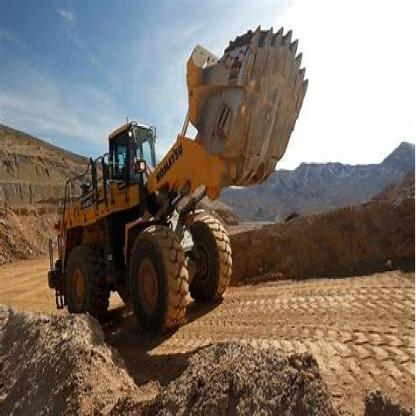bull_dozer/loader/grader: (43, 19, 340, 358)
